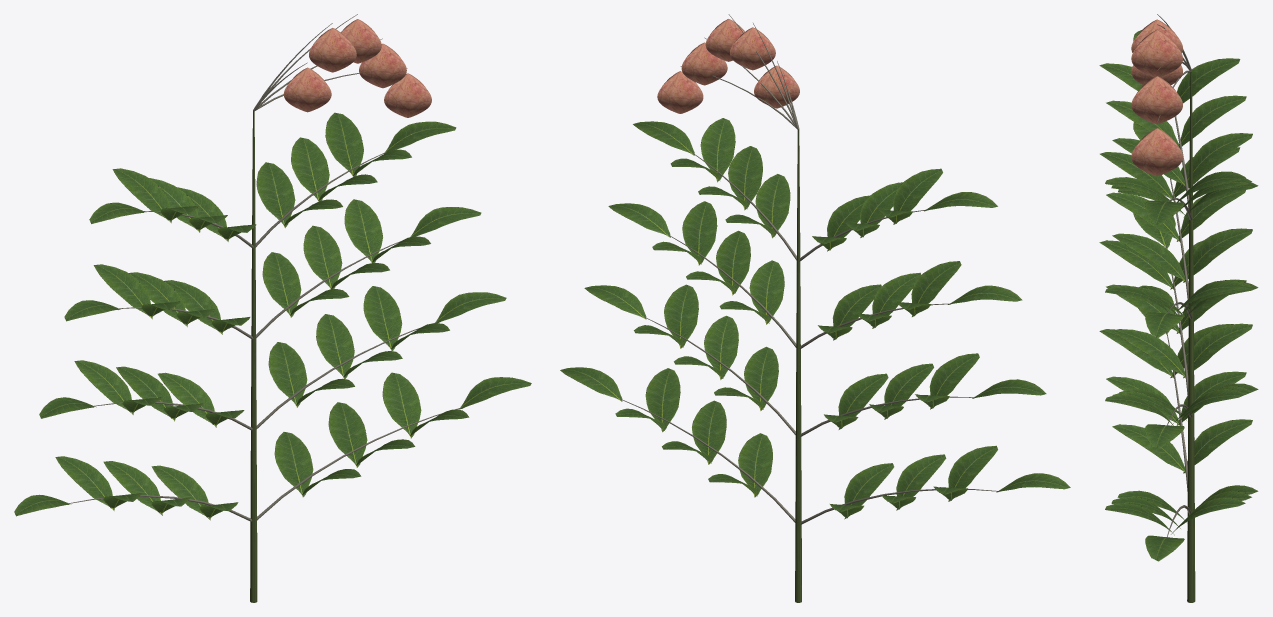
File: koelreuteria-detail.glb
3 renders of one model, left to right at view 1: azimuth 30°, elevation 25°; view 2: azimuth 150°, elevation 25°; view 3: azimuth 270°, elevation 25°, orthographic. The views are drawn at different scales.
Parts seen in each view (by area): view 1: leaf, capsules, rachis, leaf-back, stem; view 2: leaf, capsules, rachis, leaf-back, stem; view 3: leaf, capsules, stem, rachis, leaf-edge.
Part boxes in pixels (x1=…): leaf: x1=14, y1=112, x2=531, y2=520; capsules: x1=283, y1=19, x2=431, y2=117; rachis: x1=69, y1=14, x2=461, y2=521; leaf-back: x1=103, y1=162, x2=429, y2=517; stem: x1=250, y1=111, x2=257, y2=602; leaf: x1=560, y1=118, x2=1070, y2=519; capsules: x1=657, y1=19, x2=799, y2=113; rachis: x1=620, y1=14, x2=998, y2=524; leaf-back: x1=650, y1=168, x2=967, y2=518; stem: x1=795, y1=129, x2=801, y2=602; leaf: x1=1099, y1=30, x2=1258, y2=561; capsules: x1=1131, y1=19, x2=1182, y2=176; stem: x1=1187, y1=72, x2=1195, y2=602; rachis: x1=1157, y1=14, x2=1192, y2=537; leaf-edge: x1=1105, y1=63, x2=1257, y2=549.
Bounding box in the file's own units: 0.4799 × 0.506 × 0.1173.
Materials: 5 (4 with a texture image).
